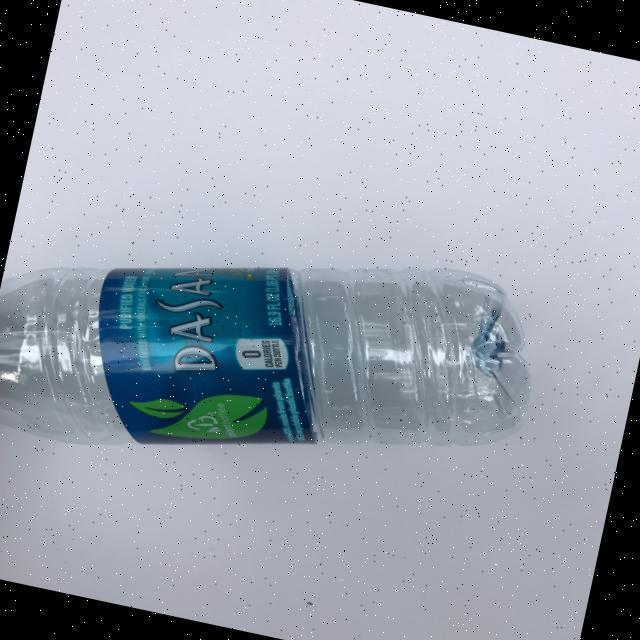plastic: (0, 176, 553, 536)
